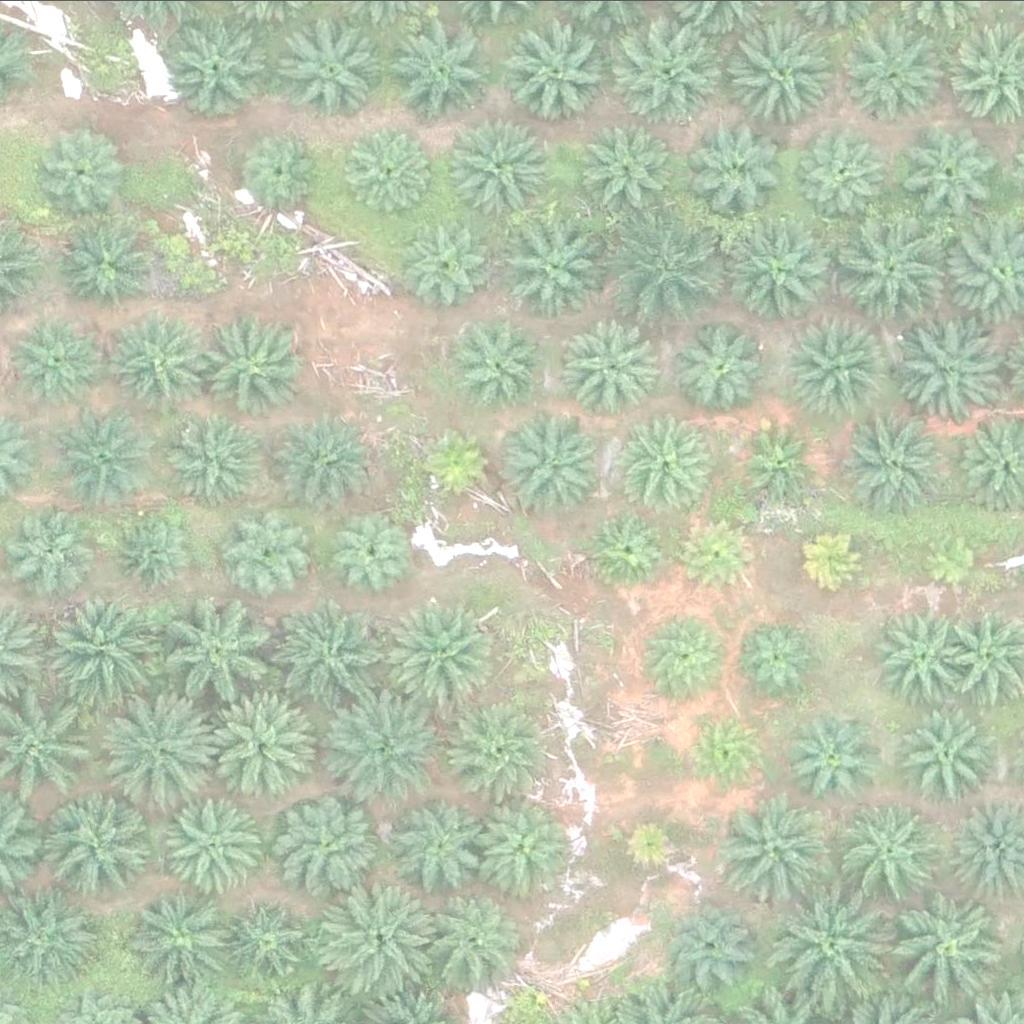Kelapa_Sawit: (834, 405, 948, 518), (110, 687, 224, 800), (832, 209, 945, 322), (900, 307, 1013, 420), (615, 14, 728, 127), (496, 211, 609, 324), (619, 210, 732, 323), (51, 593, 164, 706), (167, 600, 280, 713), (782, 889, 895, 1002), (737, 16, 851, 128), (282, 602, 396, 714), (386, 598, 500, 710), (443, 696, 557, 808), (891, 894, 1004, 1006), (332, 688, 445, 800), (205, 688, 318, 800), (41, 796, 154, 908), (129, 881, 242, 993), (317, 881, 430, 993), (718, 793, 831, 905), (787, 319, 888, 419), (871, 605, 972, 705), (784, 711, 885, 811), (900, 704, 1001, 804), (840, 798, 941, 898), (389, 16, 490, 116), (686, 117, 787, 217), (113, 310, 214, 410), (205, 314, 306, 414), (445, 313, 546, 413), (555, 313, 656, 413), (678, 320, 779, 420), (161, 409, 262, 509), (270, 408, 371, 508), (507, 415, 608, 515), (615, 416, 716, 516), (167, 794, 268, 894), (279, 794, 380, 894), (388, 792, 489, 892), (427, 897, 528, 997), (792, 123, 892, 223), (167, 14, 267, 114), (291, 24, 391, 124), (504, 23, 604, 123), (729, 215, 829, 315), (572, 113, 672, 213), (448, 114, 548, 214), (64, 407, 164, 507), (474, 792, 574, 892), (850, 23, 951, 122), (339, 127, 428, 215), (905, 129, 993, 217), (411, 417, 499, 505), (639, 609, 727, 697), (731, 609, 819, 697), (671, 511, 759, 599), (582, 503, 670, 591), (42, 128, 130, 216), (402, 221, 490, 309), (9, 316, 97, 404), (327, 508, 415, 596), (219, 504, 307, 592), (225, 901, 313, 989), (664, 896, 752, 984), (681, 709, 769, 796), (237, 126, 325, 213), (65, 221, 153, 308), (731, 419, 819, 506), (111, 507, 199, 594), (6, 507, 94, 594), (793, 519, 869, 594), (622, 816, 685, 879), (922, 527, 985, 589)
